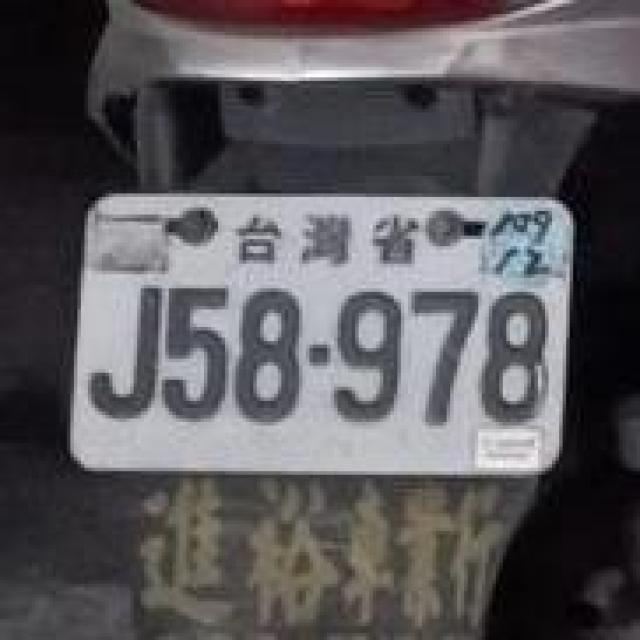W: (59, 158, 542, 506)
